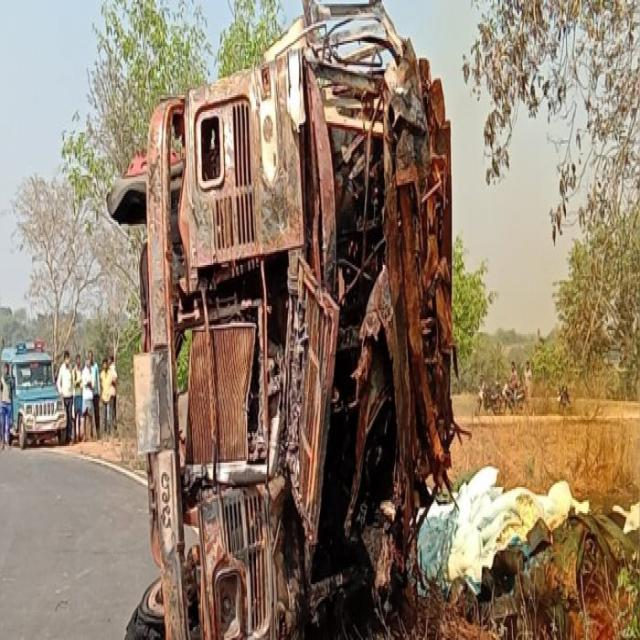accident: (109, 0, 459, 639)
car: (1, 342, 67, 448)
